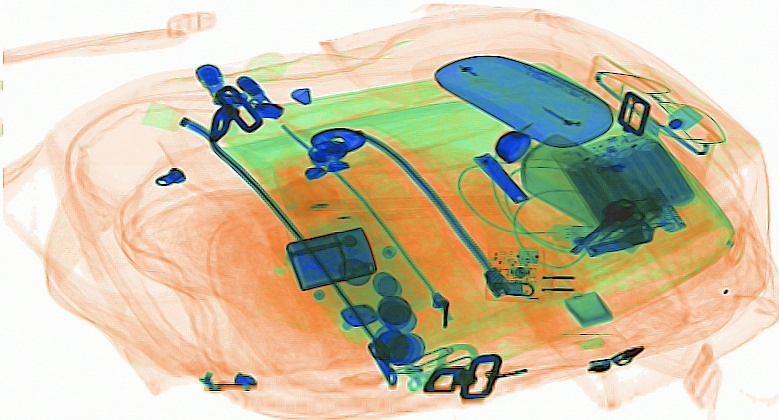lighter: (283, 226, 376, 291)
powerbank: (550, 126, 702, 232)
